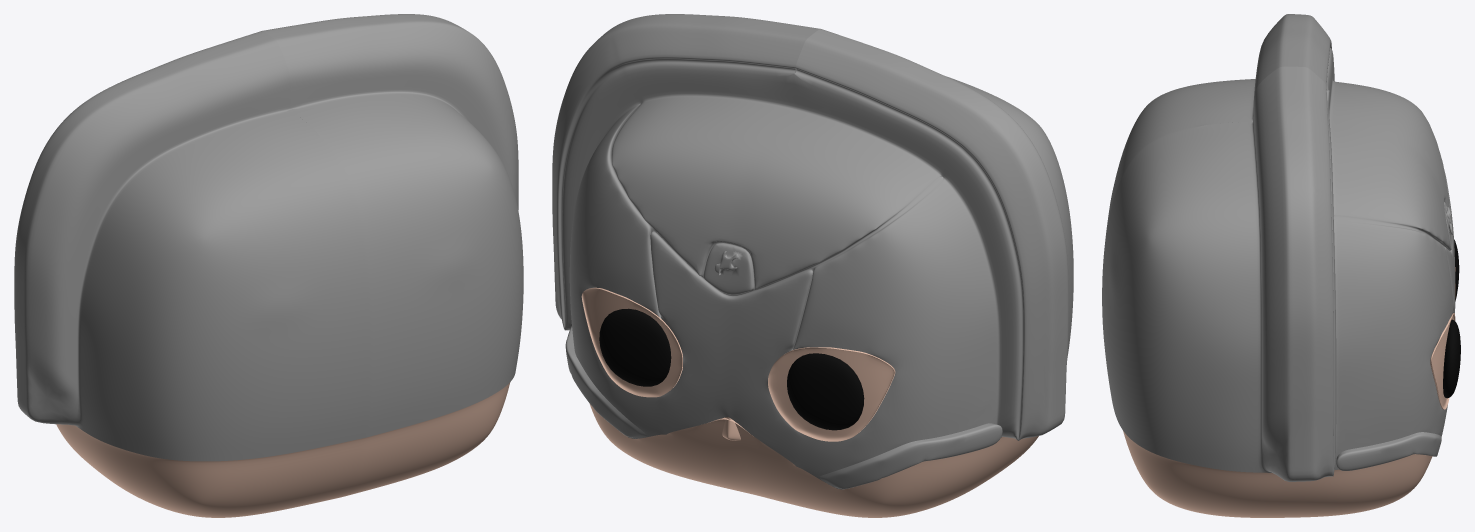
The model's file is PaceMaker.fbx.
The picture shows the model from 3 angles, left to right: view 1: azimuth 30°, elevation 25°; view 2: azimuth 150°, elevation 25°; view 3: azimuth 270°, elevation 25°; orthographic projection. The views are drawn at different scales.
Parts seen in each view (by area): view 1: Mask, Face; view 2: Mask, Face, Eyes; view 3: Mask, Face, Eyes.
Part boxes in pixels (bbox=[...]): Mask: bbox=[14, 14, 523, 461]; Face: bbox=[56, 382, 510, 517]; Mask: bbox=[552, 14, 1073, 489]; Face: bbox=[581, 287, 1038, 517]; Eyes: bbox=[599, 308, 864, 430]; Mask: bbox=[1102, 14, 1455, 481]; Face: bbox=[1123, 267, 1455, 517]; Eyes: bbox=[1443, 239, 1460, 398].
Bounding box in the file's own units: 50.21 × 41.35 × 33.73.
